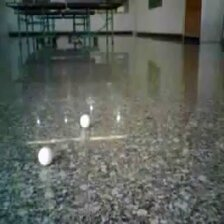w: (36, 145, 53, 166), (79, 114, 90, 128)
